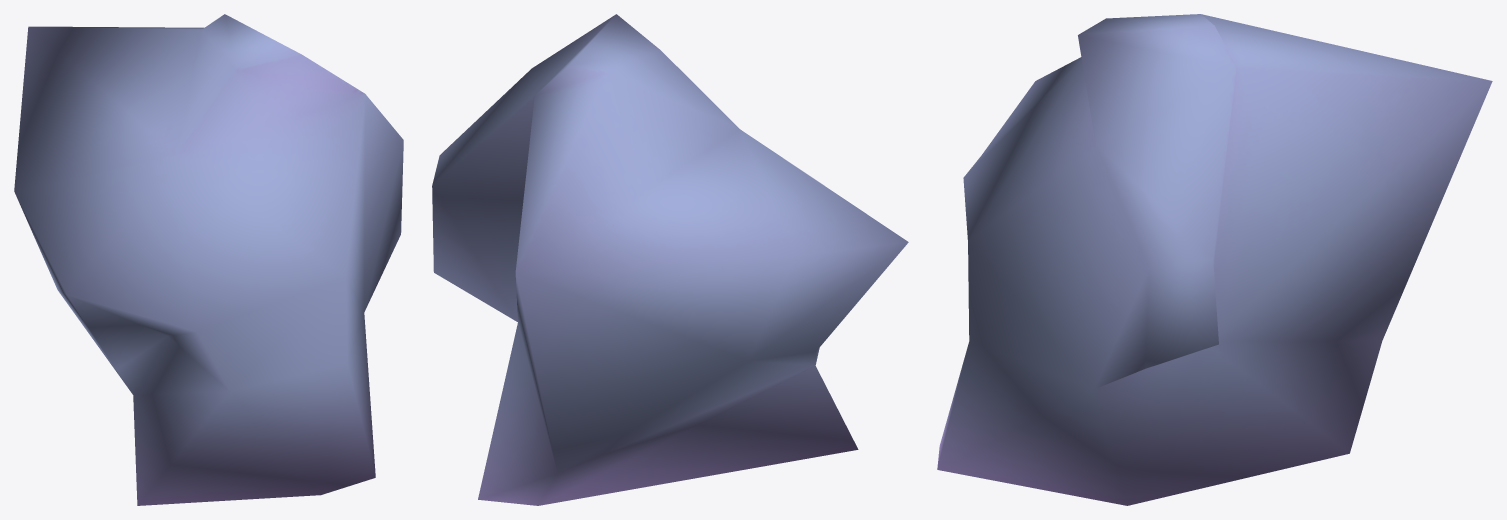
File: Boulder1.glb
3 renders of one model, left to right at view 1: azimuth 30°, elevation 25°; view 2: azimuth 150°, elevation 25°; view 3: azimuth 270°, elevation 25°, orthographic. The views are drawn at different scales.
Visible parts, largest first — view 1: Boulder1; view 2: Boulder1; view 3: Boulder1.
Boxes of the visible parts, x1,y1,x2,y2 form: Boulder1: [14, 14, 403, 505]; Boulder1: [432, 14, 908, 505]; Boulder1: [937, 14, 1492, 505].
Size of the model in its own units: 4.07 by 3.87 by 4.48.
1 material, 1 textured.
